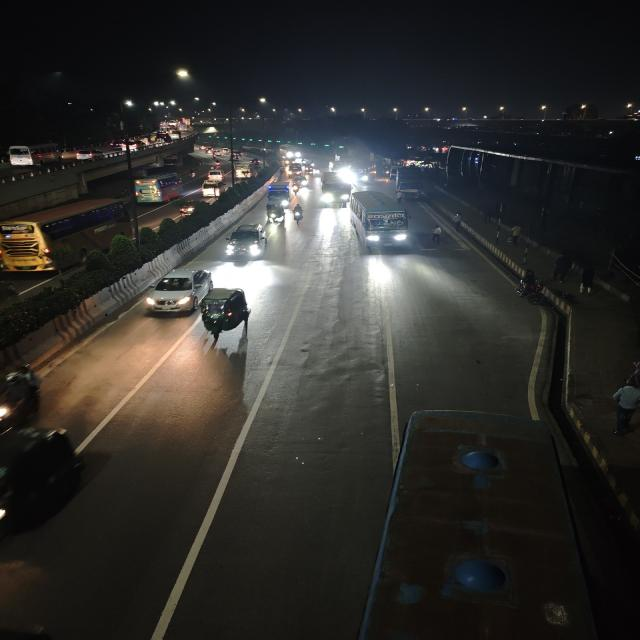bus: (380, 403, 571, 640), (0, 194, 136, 274), (347, 189, 413, 253), (132, 166, 194, 204), (317, 170, 350, 208), (352, 162, 381, 182)
car: (141, 266, 215, 320), (222, 222, 269, 262), (200, 182, 224, 198), (236, 162, 256, 180), (177, 200, 198, 216), (75, 150, 98, 160), (206, 169, 225, 181), (126, 142, 140, 152), (230, 151, 243, 161)
cng: (198, 286, 257, 344), (4, 144, 36, 167), (261, 200, 287, 224), (162, 154, 182, 167)
motorcycle: (514, 269, 548, 308), (291, 203, 306, 225), (291, 183, 303, 195), (188, 167, 199, 179)
pedestrian: (608, 374, 640, 439), (551, 252, 573, 284), (578, 263, 597, 295), (428, 223, 446, 248)
truck: (393, 166, 424, 200), (264, 182, 292, 206)
